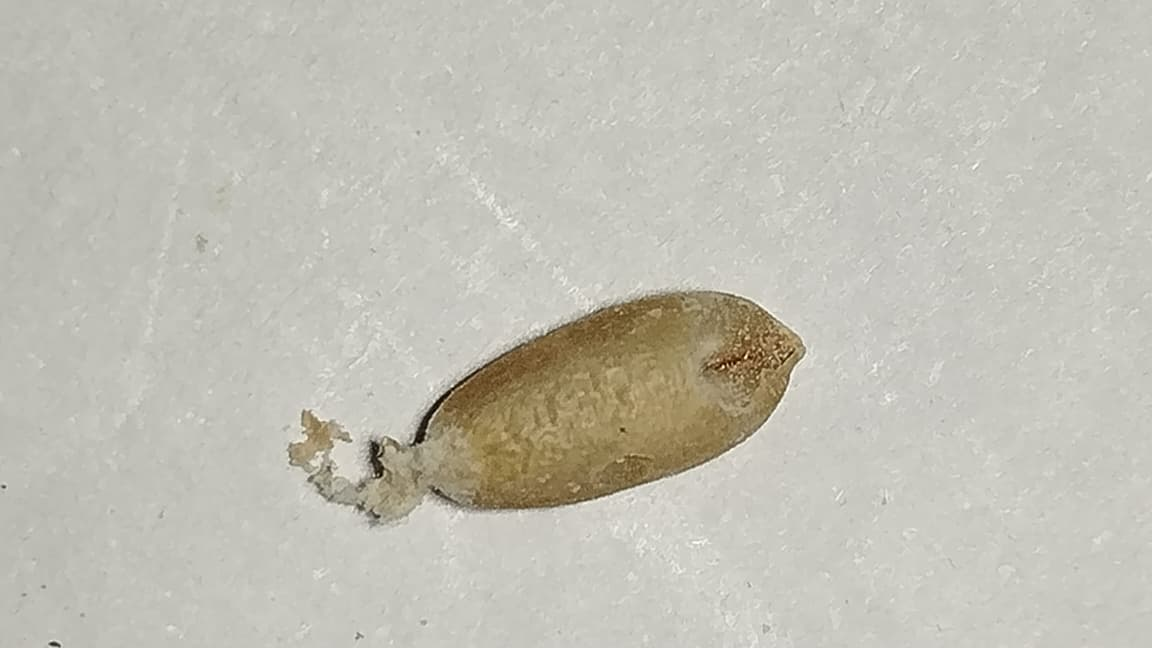damage: (290, 291, 804, 517)
insectdamage: (697, 294, 790, 412), (591, 444, 682, 498)
molddamage: (288, 410, 442, 528)
